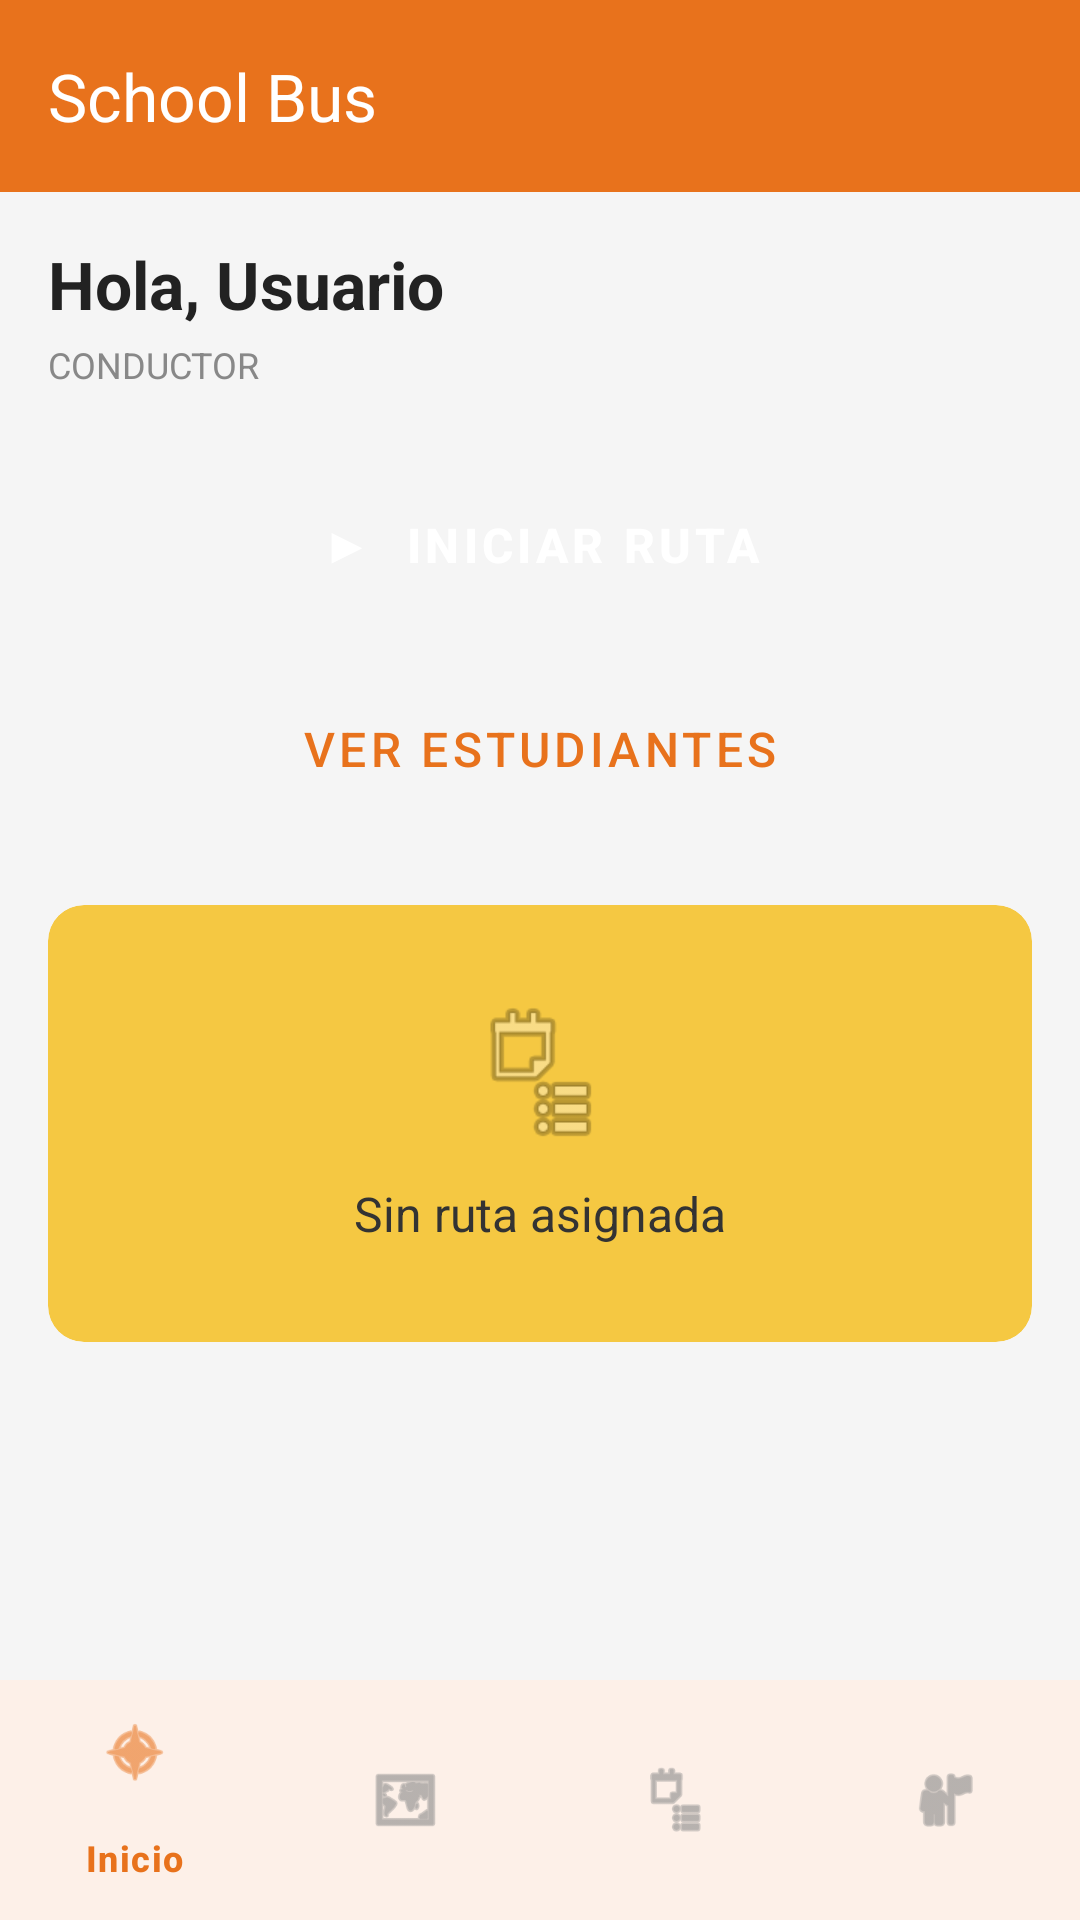

Named icons in this screenshot (1080w x 1920h) and their bounding boxes, Rect(x1, y1, x2, y2):
agenda: Rect(490, 1008, 591, 1136)
